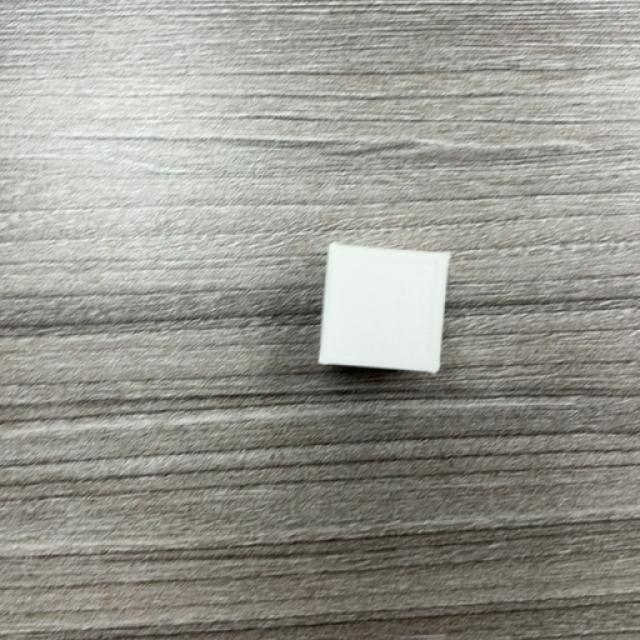Blanco: (318, 245, 450, 376)
